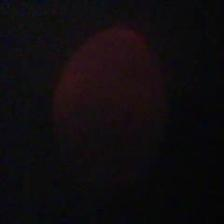fertile: (54, 24, 168, 190)
